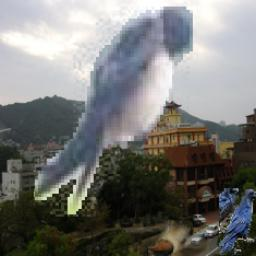Crow: (218, 189, 256, 256)
Swallow: (34, 7, 193, 217), (148, 220, 211, 256)
